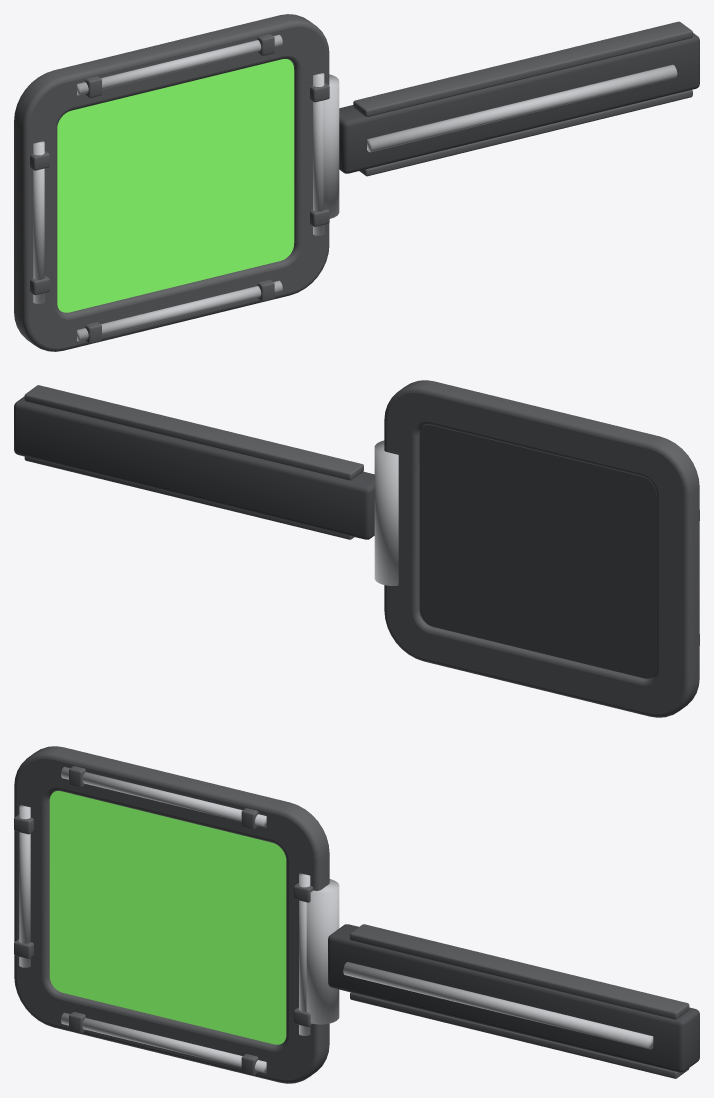
The model's file is panel.glb.
The picture shows the model from 3 angles, top to bottom: view 1: azimuth 30°, elevation 25°; view 2: azimuth 150°, elevation 25°; view 3: azimuth 330°, elevation 25°; orthographic projection.
Parts seen in each view (by area): view 1: Face, Bezel, Arm; view 2: Bezel, Arm; view 3: Face, Bezel, Arm.
Boxes of the visible parts, x1,y1,x2,y2 form: Face: (57, 59, 294, 312); Bezel: (14, 14, 329, 351); Arm: (324, 21, 699, 218); Bezel: (384, 380, 699, 717); Arm: (14, 385, 398, 585); Face: (49, 791, 286, 1044); Bezel: (14, 746, 329, 1083); Arm: (306, 879, 699, 1078).
Bounding box in the file's own units: 4.53 × 1.76 × 0.28.
